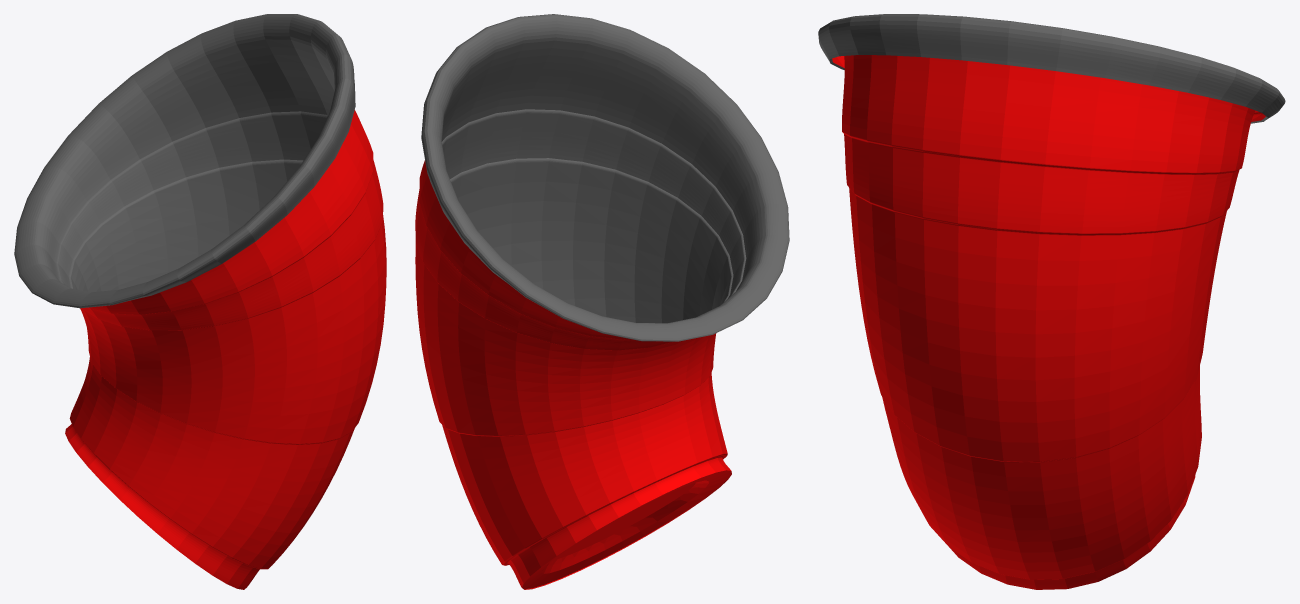
The model's file is bend_high_1.obj.
The picture shows the model from 3 angles, left to right: view 1: azimuth 30°, elevation 25°; view 2: azimuth 150°, elevation 25°; view 3: azimuth 270°, elevation 25°; orthographic projection. The views are drawn at different scales.
Visible parts, largest first — view 1: model; view 2: model; view 3: model.
Part boxes in pixels (box(x1,y1,x2,y2)): model: box(14, 14, 386, 589); model: box(415, 14, 789, 589); model: box(818, 14, 1285, 589).
Bounding box in the file's own units: 0.0895 × 0.1389 × 0.0953.
1 material, 1 textured.
